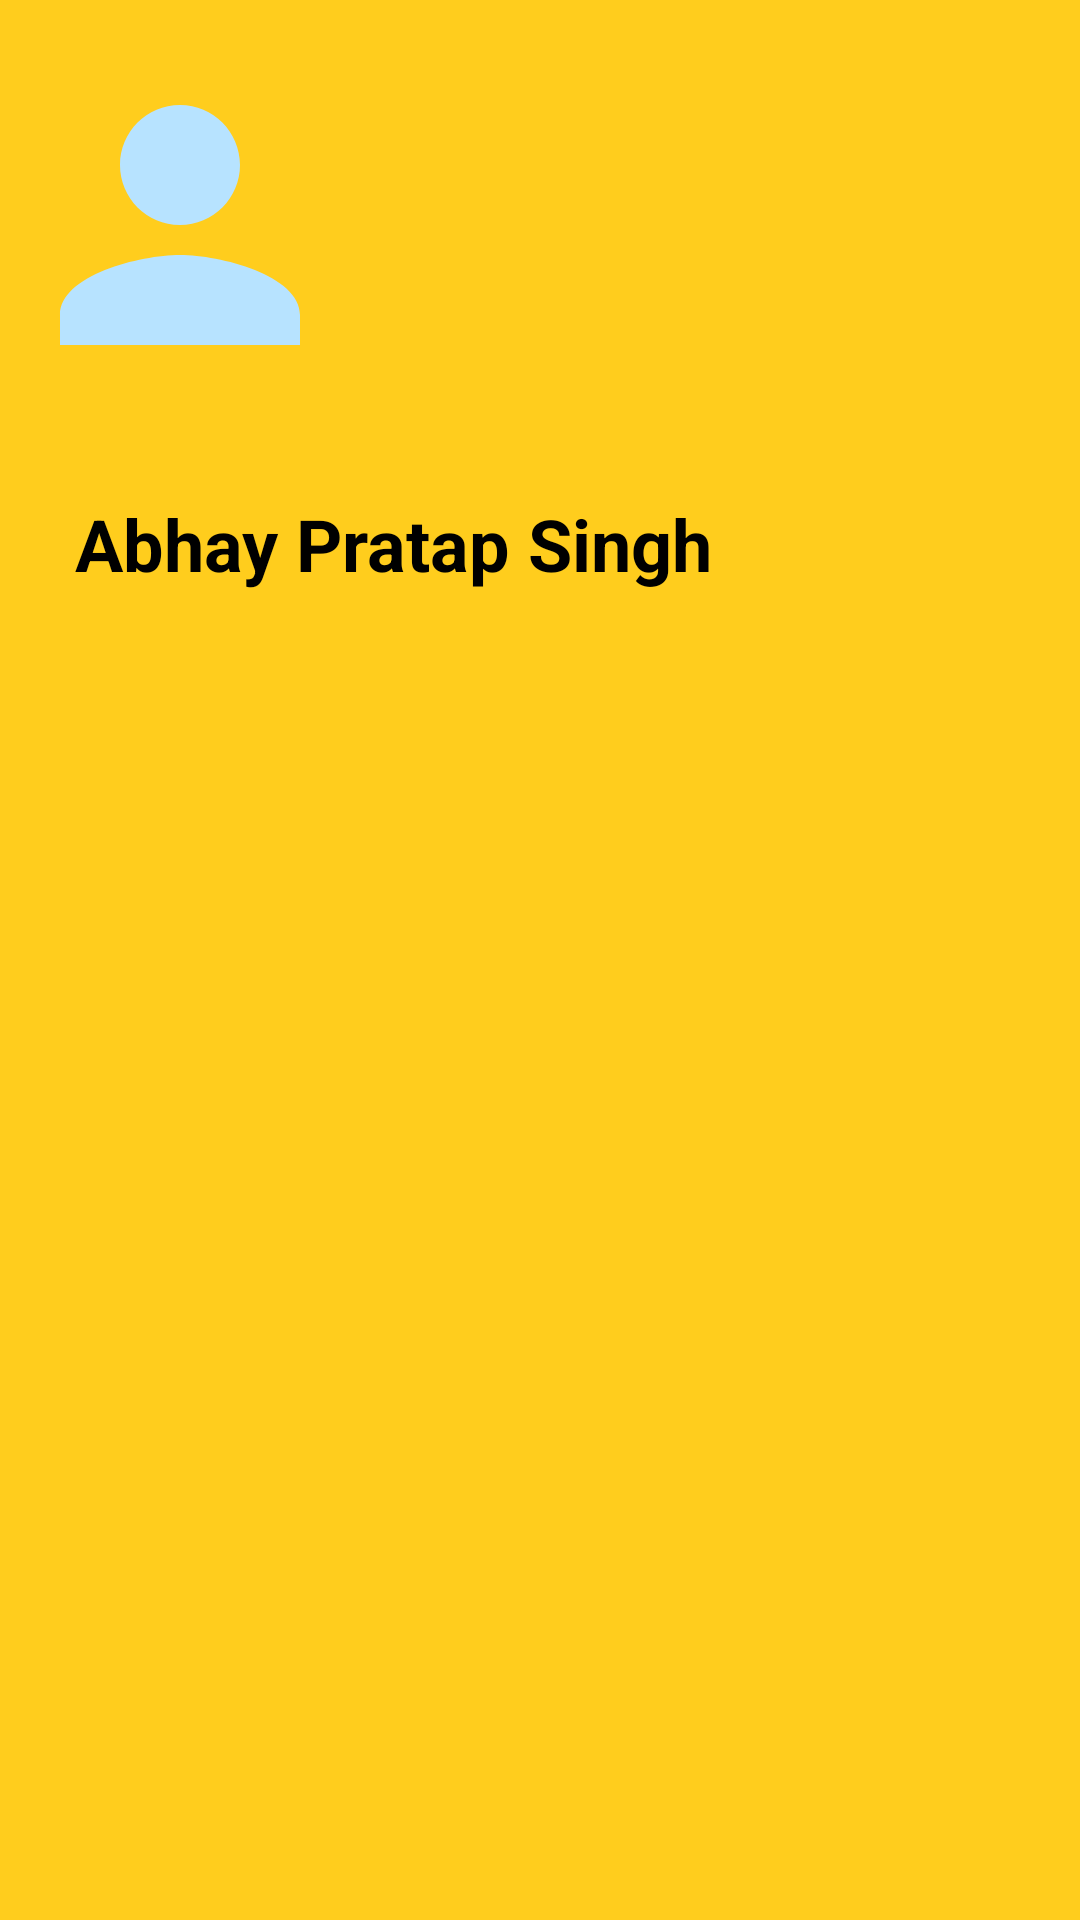

Where to tap for icons on this 1080*1920 app screen, as [x,y]:
Header Image: [180,225]
